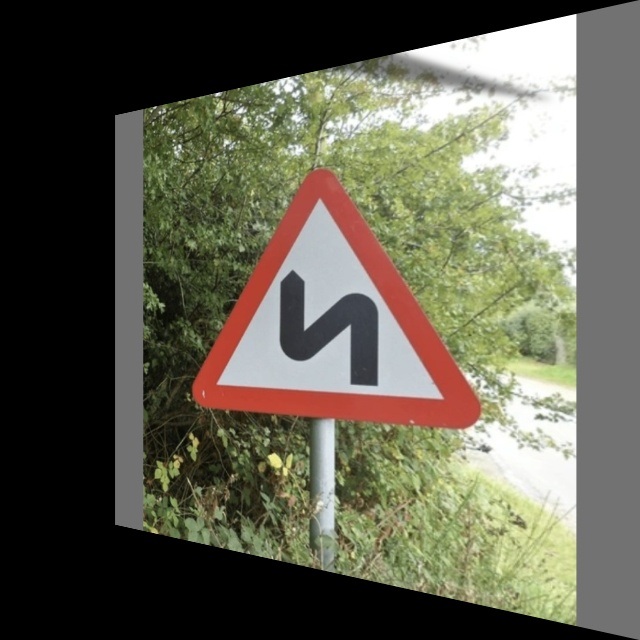Left_Reverse_Bend: (192, 147, 481, 430)
